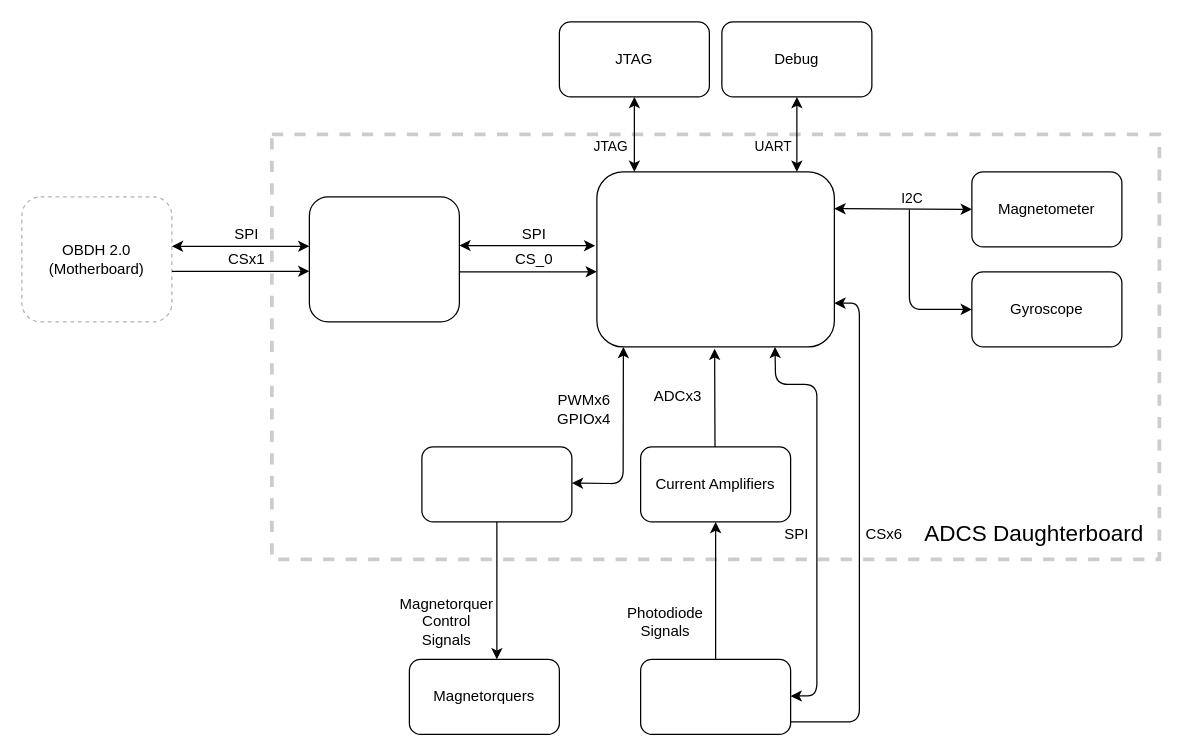
The diagram is 1183 pixels wide and 756 high, and some of its shapes have lost their labels. The centre of each missing label's shape, as x and y in pixels:
"FSI-110-03-G-D-AD Interface connector" goes at [383,259].
"Magnetorquer Drivers" goes at [496,484].
"Microcontroller" goes at [715,259].
"Solar Panels" goes at [715,696].
